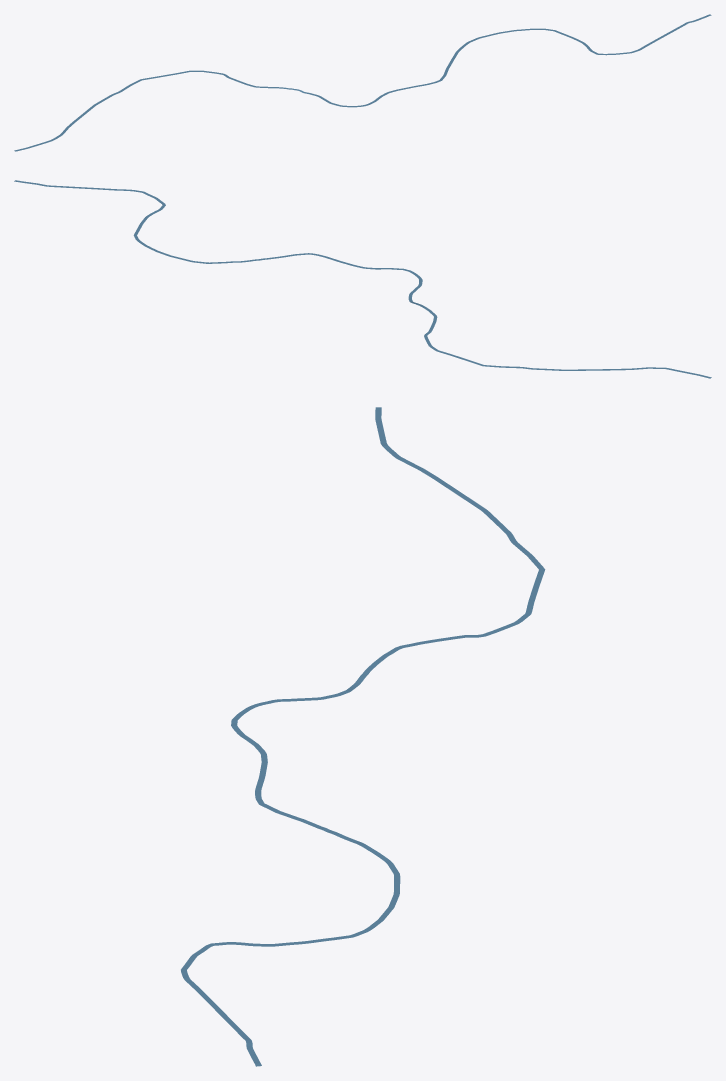
Rendered from c_1624_17829_water.glb.
3 renders of one model, top to bottom at view 1: azimuth 30°, elevation 25°; view 2: azimuth 150°, elevation 25°; view 3: azimuth 270°, elevation 25°, orthographic. The views are drawn at different scales.
Parts seen in each view (by area): view 1: geometry_0; view 2: geometry_0; view 3: geometry_0.
Part boxes in pixels (x1,y1,x2,y2): geometry_0: [14, 14, 711, 151]; geometry_0: [14, 180, 711, 378]; geometry_0: [181, 407, 545, 1066].
Bounding box in the file's own units: 1485 × 11.16 × 352.
